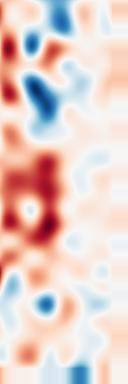filament: (24, 145, 67, 255)
